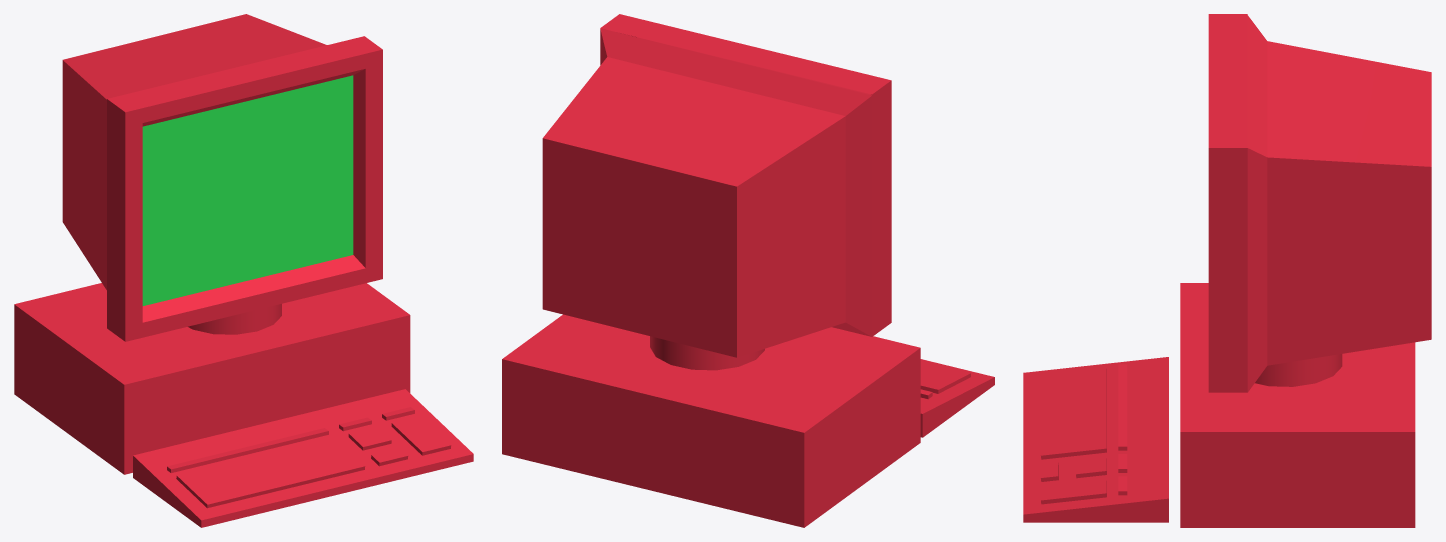
3 views of the same model, side by side, from view 1: azimuth 30°, elevation 25°; view 2: azimuth 150°, elevation 25°; view 3: azimuth 270°, elevation 25° (orthographic). The views are drawn at different scales.
Visible parts, largest first — view 1: Layer0_001; view 2: Layer0_001; view 3: Layer0_001.
Part boxes in pixels (left/top/right/bottom): Layer0_001: left=14, top=14, right=473, bottom=527; Layer0_001: left=502, top=14, right=994, bottom=527; Layer0_001: left=1023, top=14, right=1431, bottom=527.
Size of the model in its own units: 50.69 by 59.14 by 58.77.
